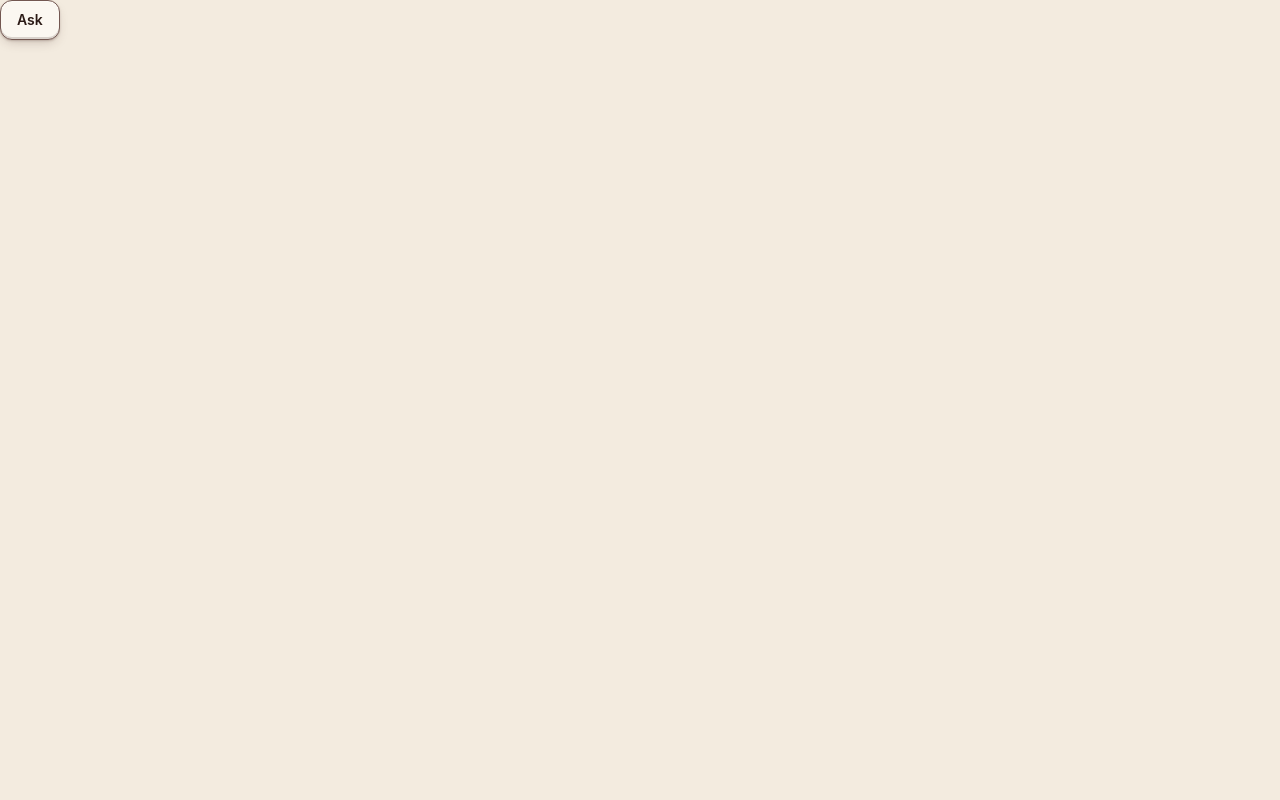
R3.20 Ask dialog › R3.20 a cached answer shows the From the cache note
Click the button with test id "ask-available" at (30, 20), box [0,0,60,40]
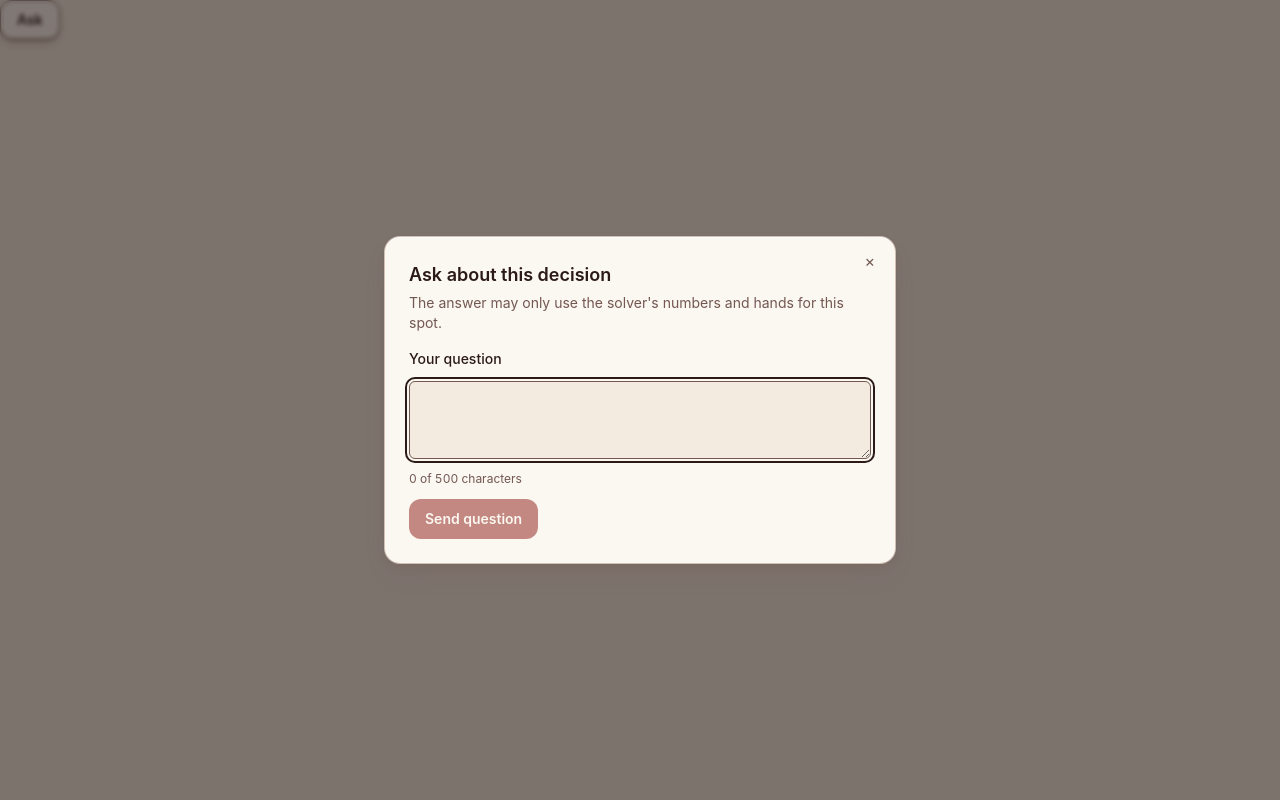
Type "Why is raising better than calling?" into the text box labelled "Your question" at (640, 420), box [409,381,871,459]
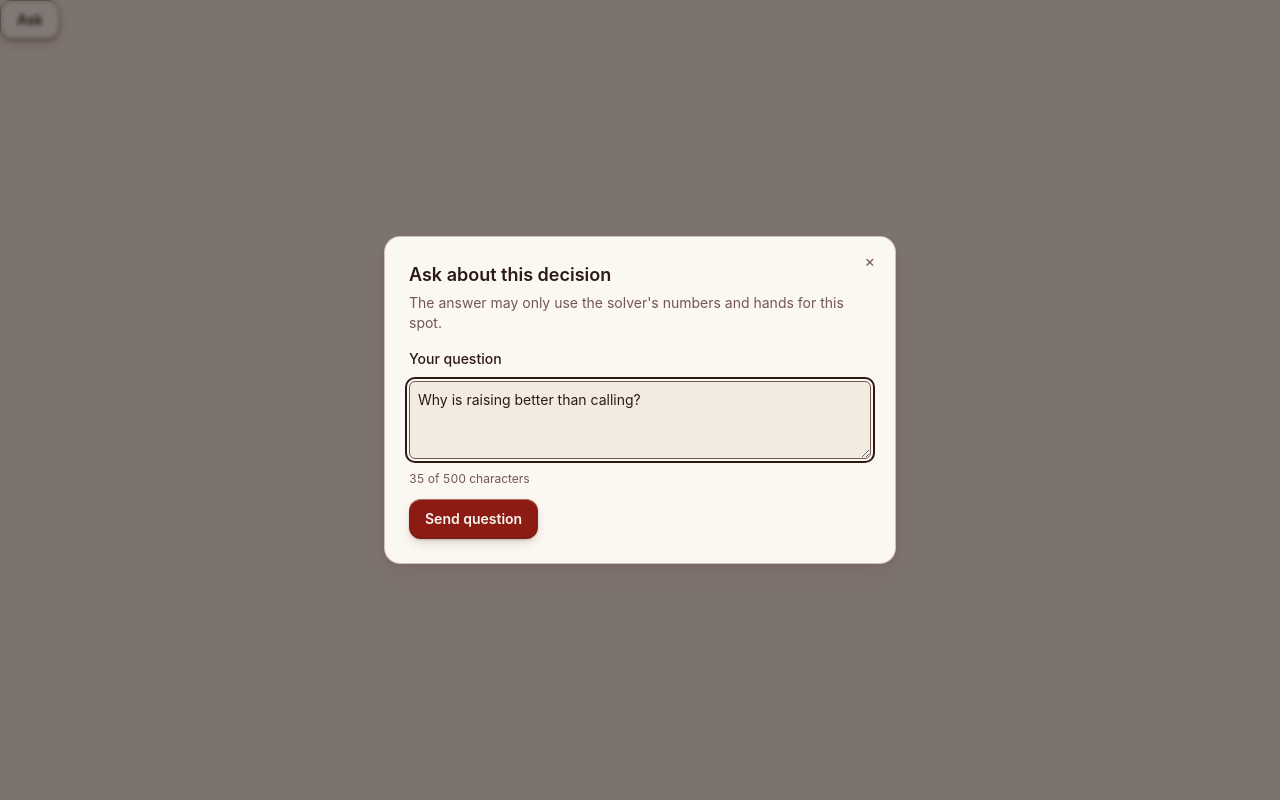
Click the button "Send question" at (474, 519), box [409,499,538,539]
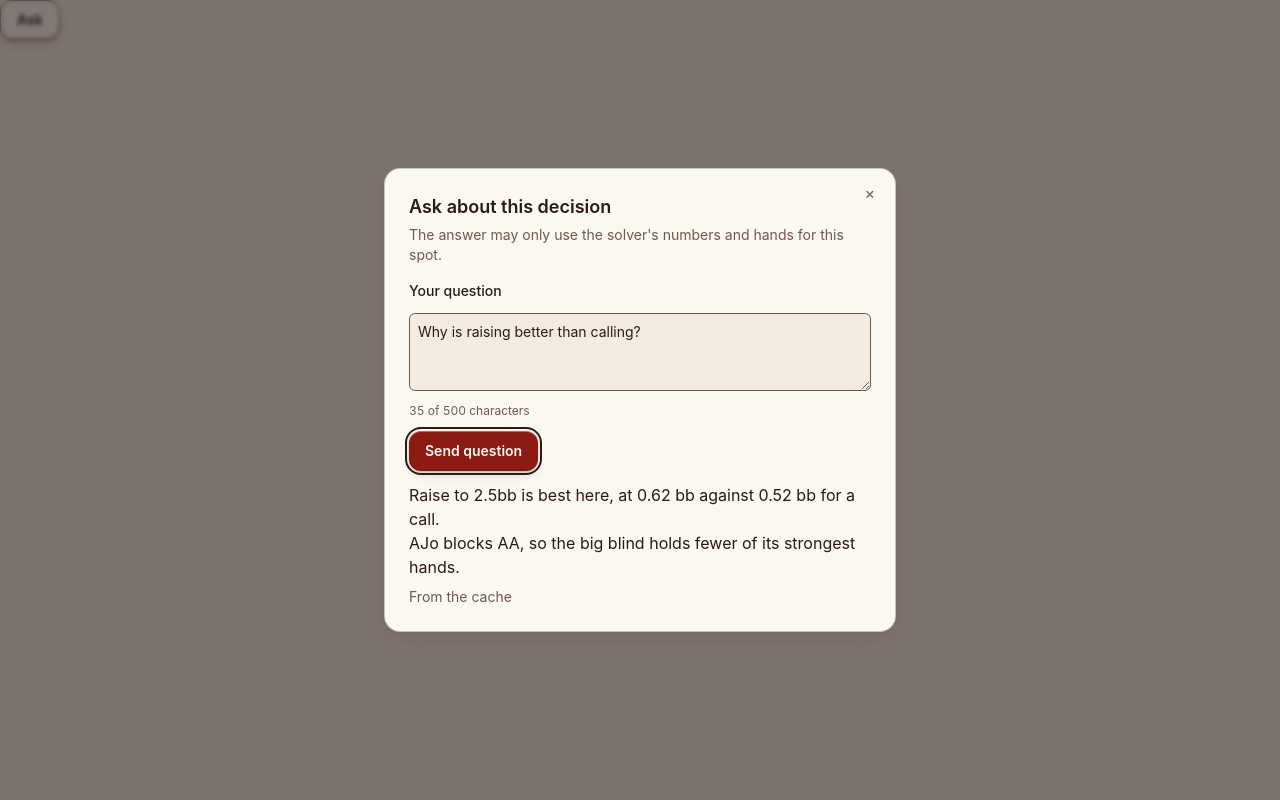
Expected: the text with test id "ask-cached" reads "From the cache", [409,588,512,605]
